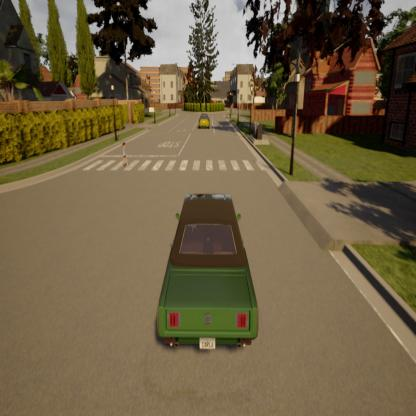Cars: (153, 183, 262, 358), (198, 110, 212, 132)
Pedestrian: (118, 136, 130, 174)
